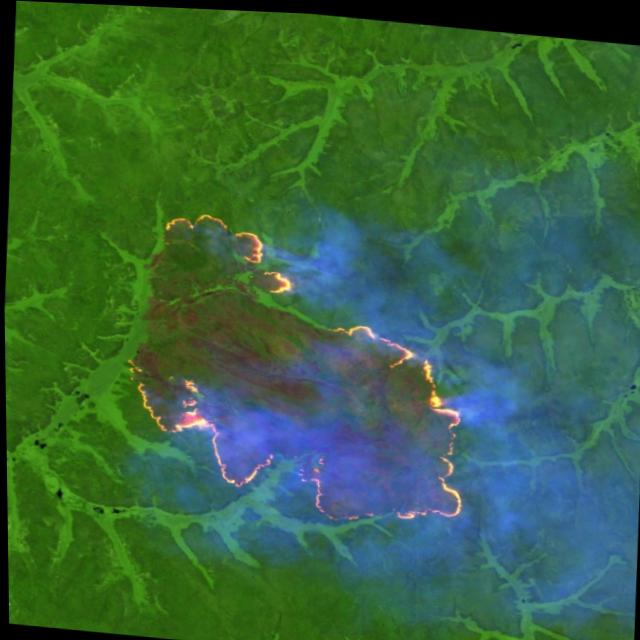fire: (126, 179, 491, 533)
